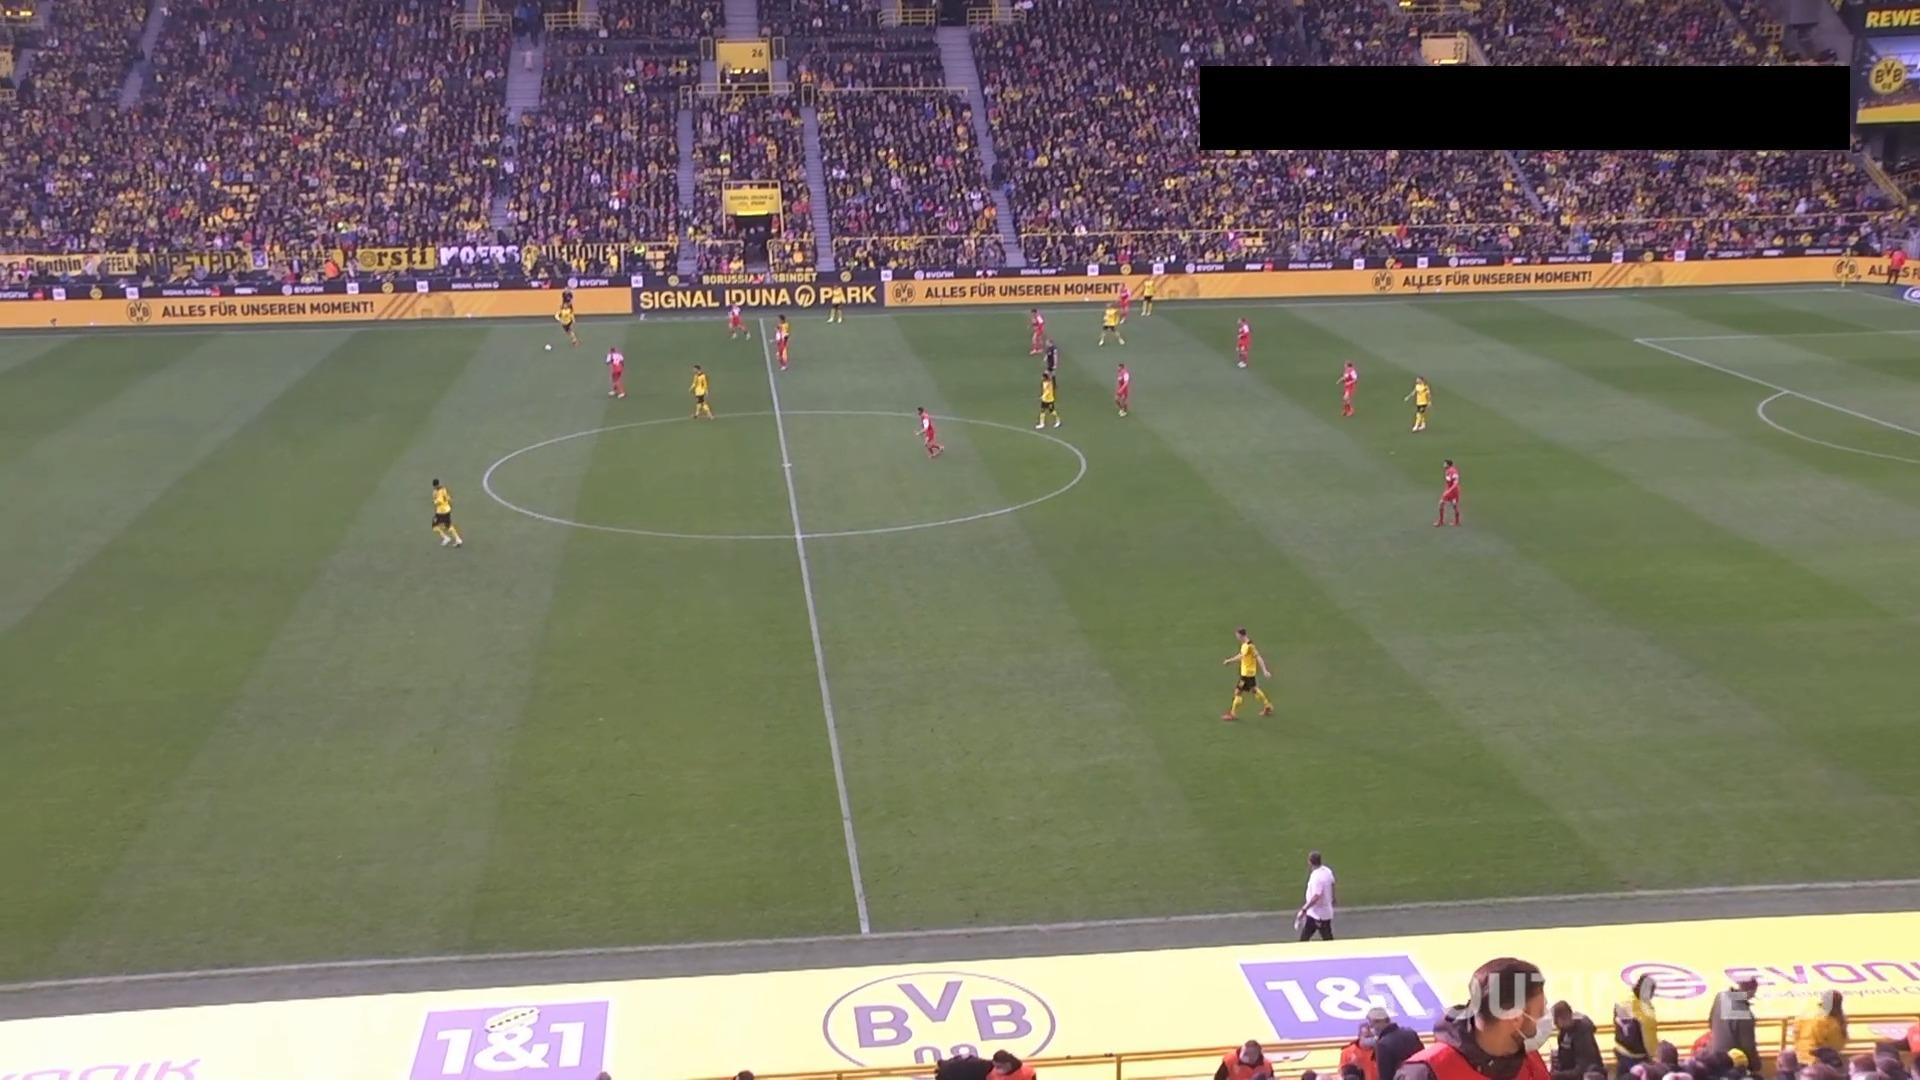ball: (543, 343, 551, 352)
coach: (1294, 850, 1336, 940)
fan: (1392, 956, 1553, 1078), (1364, 1006, 1423, 1077)
player: (1220, 626, 1274, 720), (429, 477, 463, 547), (1433, 458, 1461, 526), (1403, 374, 1432, 432), (1034, 371, 1062, 429), (913, 405, 942, 457), (688, 363, 713, 419), (554, 290, 579, 346), (1336, 359, 1358, 417), (1097, 304, 1125, 346), (604, 344, 626, 397), (772, 313, 790, 370), (726, 300, 750, 340), (1113, 361, 1130, 417), (776, 311, 794, 362), (1027, 307, 1046, 354), (1234, 315, 1251, 367), (825, 285, 844, 323), (1138, 276, 1155, 316), (1116, 282, 1133, 322)
referee: (1886, 247, 1906, 285), (1040, 338, 1059, 377)
